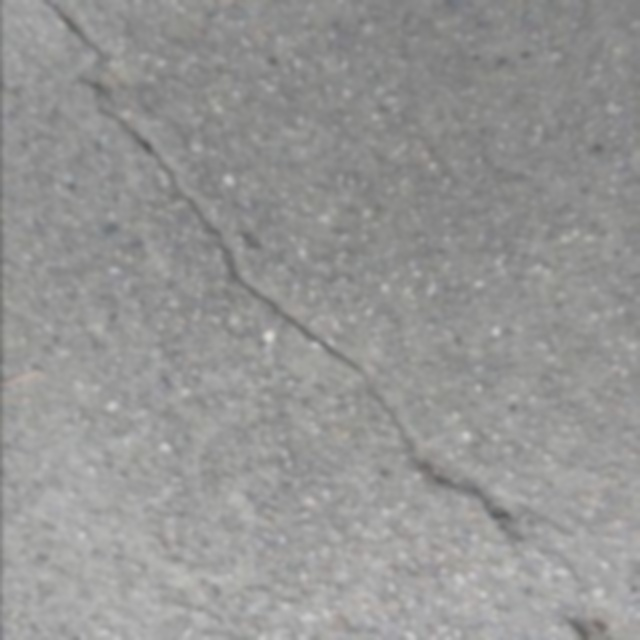SurfaceCrack: (30, 0, 606, 640)
